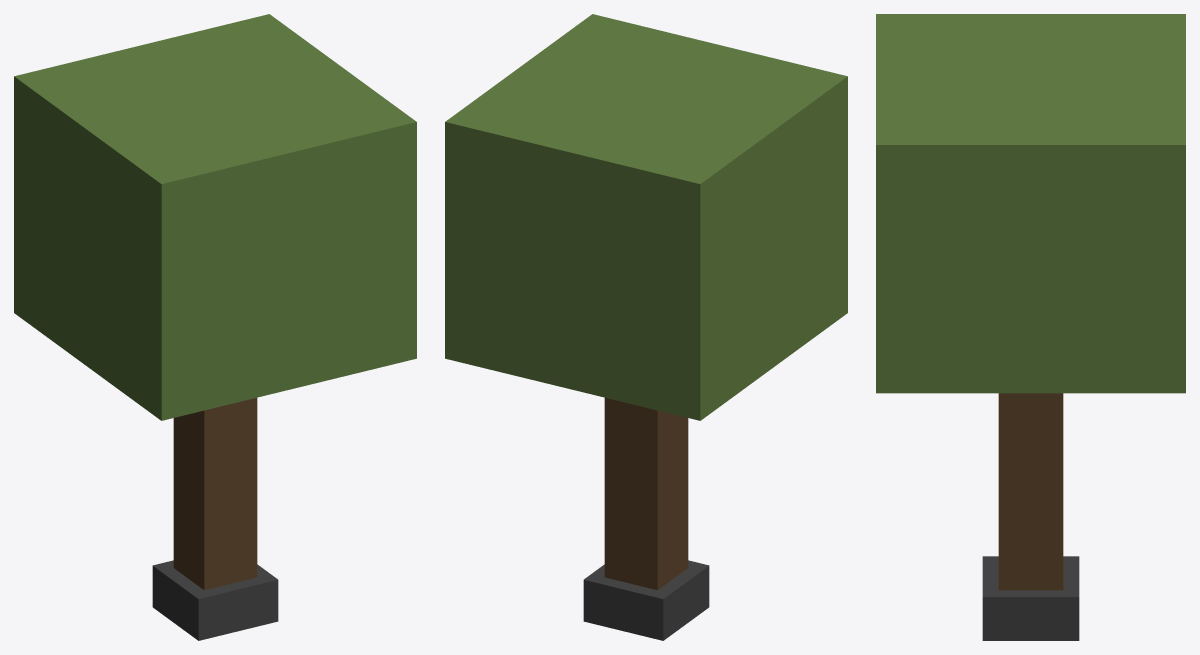
File: Tree02.fbx
3 views of the same model, side by side, from view 1: azimuth 30°, elevation 25°; view 2: azimuth 150°, elevation 25°; view 3: azimuth 270°, elevation 25° (orthographic). The views are drawn at different scales.
Parts seen in each view (by area): view 1: Tree02; view 2: Tree02; view 3: Tree02.
Boxes of the visible parts, <box> form: Tree02: <box>14,14,416,640</box>; Tree02: <box>445,14,847,640</box>; Tree02: <box>876,14,1185,640</box>.
Bounding box in the file's own units: 192 × 370 × 192.
